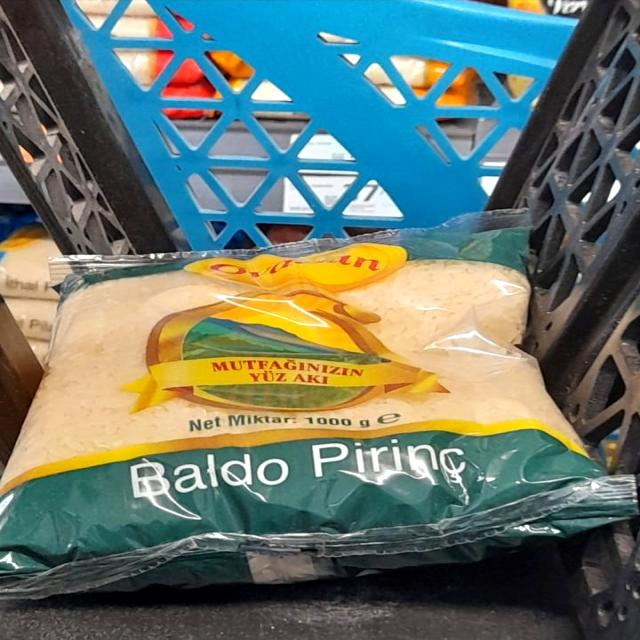rice: (47, 252, 604, 564)
